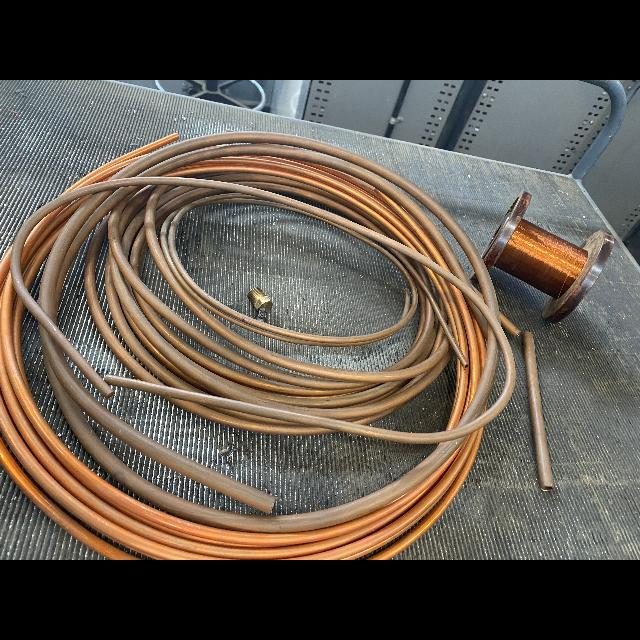Brass: (247, 287, 273, 312)
Copper: (0, 242, 483, 560), (20, 184, 516, 443), (40, 323, 467, 532), (61, 130, 502, 327), (134, 176, 503, 347), (139, 142, 474, 291), (11, 178, 134, 398), (384, 244, 488, 430), (0, 438, 135, 560), (494, 219, 587, 299), (523, 332, 554, 490), (499, 312, 521, 337)
Ferrous Metal: (255, 307, 266, 322)
